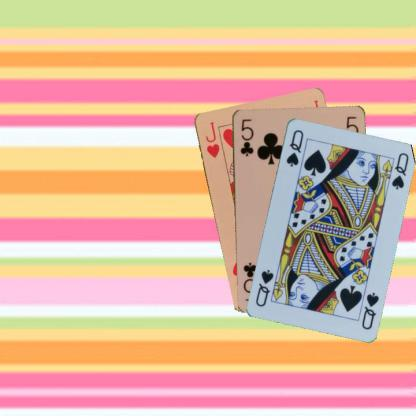5c: (237, 116, 255, 158)
Jh: (202, 119, 221, 159)
Qs: (283, 127, 305, 168), (359, 290, 380, 330)
